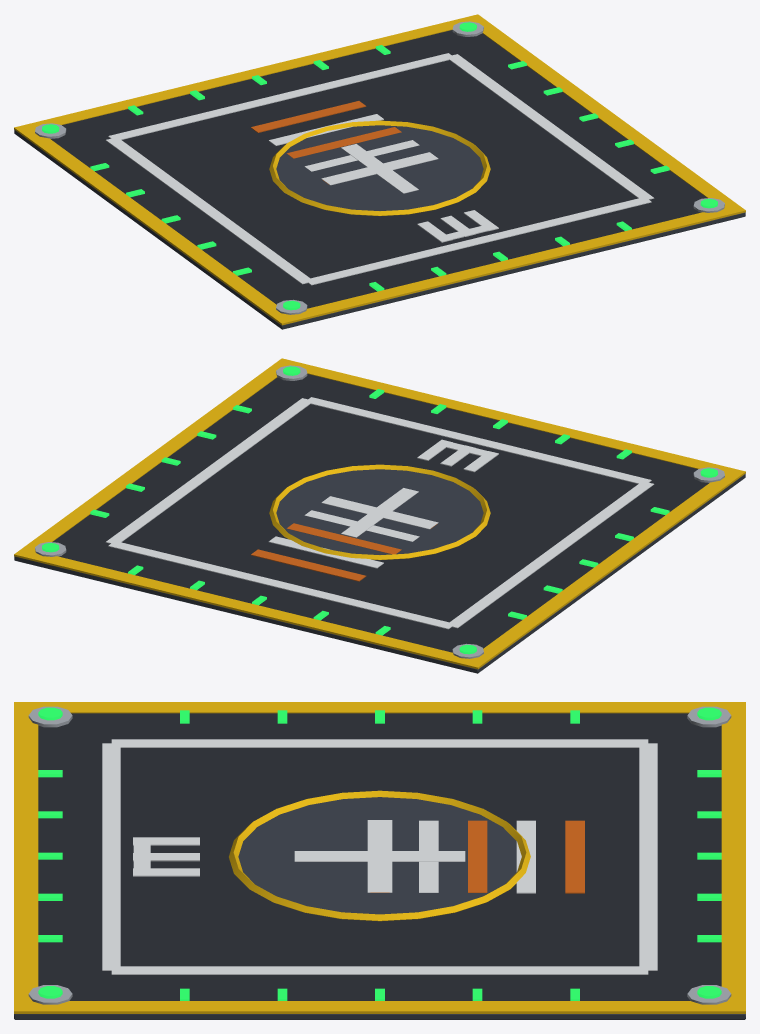
Rendered from hangartool_landing_pad_square.glb.
3 views of the same model, one above another, from view 1: azimuth 30°, elevation 25°; view 2: azimuth 150°, elevation 25°; view 3: azimuth 270°, elevation 25° (orthographic). The views are drawn at different scales.
Visible parts, largest first — view 1: hangartool_landing_pad_square; view 2: hangartool_landing_pad_square; view 3: hangartool_landing_pad_square.
Part boxes in pixels (box(x1,y1,x2,y2)): hangartool_landing_pad_square: box(14, 14, 745, 329); hangartool_landing_pad_square: box(14, 358, 745, 673); hangartool_landing_pad_square: box(14, 702, 745, 1019).
Size of the model in its own units: 6 by 0.125 by 6.
